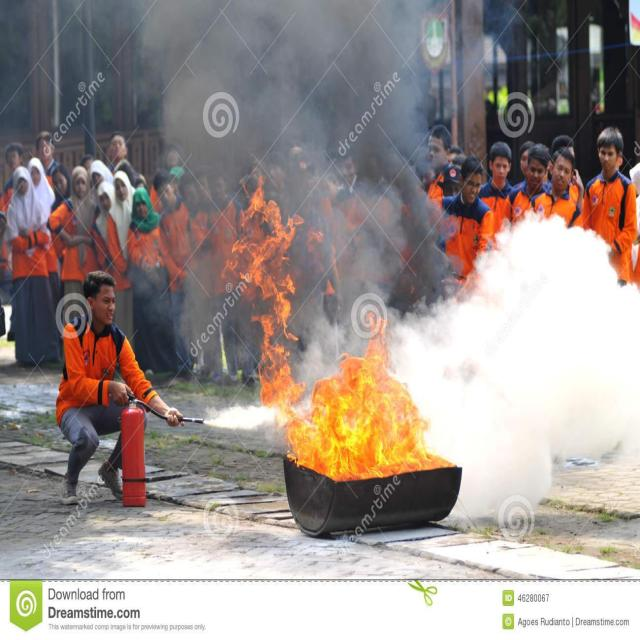fire_extinguisher: (112, 392, 208, 512)
